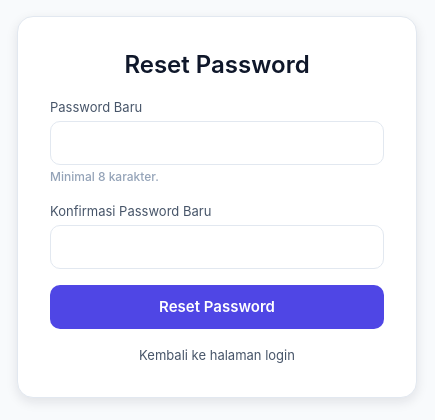
it: ResetPasswordPage › submits the token and new password, then shows success
The width and height of the screenshot is (435, 420).
In the password field labelled "Password Baru": [217, 143] box top-left (50, 121), bottom-right (384, 165), type "NewStrongPass!1"
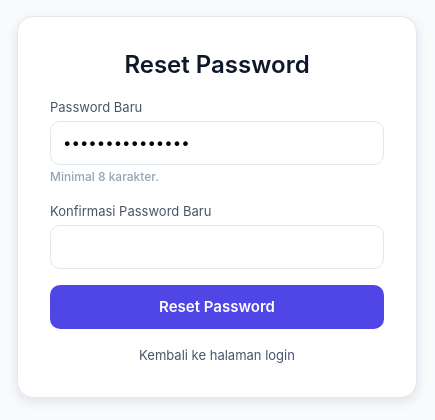
In the password field labelled "Konfirmasi Password Baru": [217, 247] box top-left (50, 225), bottom-right (384, 269), type "NewStrongPass!1"
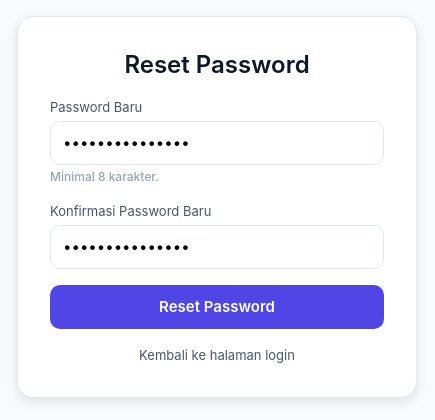
Click the button "Reset Password": [217, 307] box top-left (50, 285), bottom-right (384, 329)
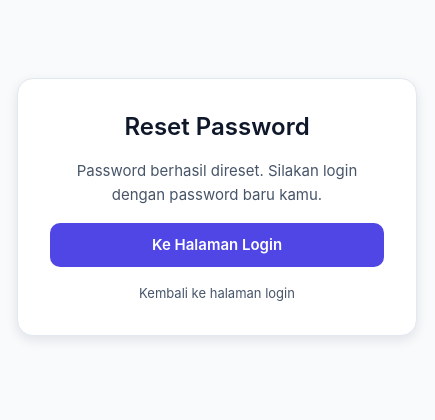
Now the message shows "Password berhasil direset", box top-left (77, 161), bottom-right (357, 204)
